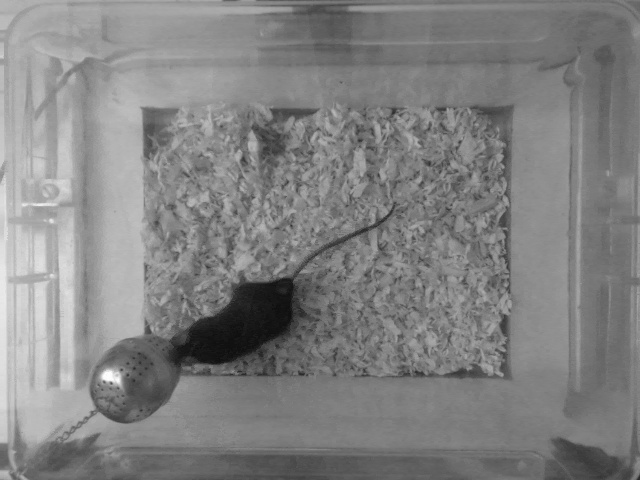mice: (166, 204, 402, 372)
